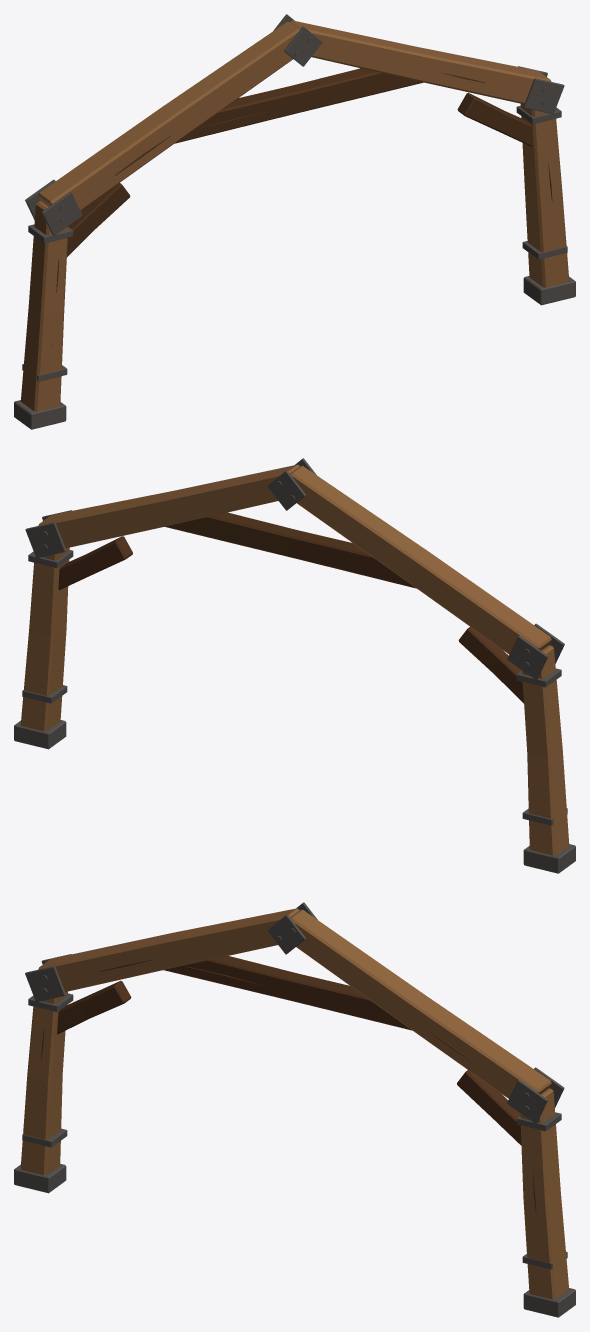
File: timber_support_arch.glb
The picture shows the model from 3 angles, top to bottom: view 1: azimuth 30°, elevation 25°; view 2: azimuth 150°, elevation 25°; view 3: azimuth 330°, elevation 25°; orthographic projection.
Visible parts, largest first — view 1: GEO_wood_primary, GEO_wood_dark, GEO_iron; view 2: GEO_wood_primary, GEO_wood_dark, GEO_iron; view 3: GEO_wood_primary, GEO_wood_dark, GEO_iron.
Part boxes in pixels (left/top/right/bottom): GEO_wood_primary: left=20, top=20, right=569, bottom=411; GEO_wood_dark: left=51, top=68, right=552, bottom=345; GEO_iron: left=14, top=14, right=575, bottom=429; GEO_wood_primary: left=20, top=464, right=569, bottom=855; GEO_wood_dark: left=58, top=512, right=523, bottom=703; GEO_iron: left=14, top=458, right=575, bottom=873; GEO_wood_primary: left=20, top=908, right=569, bottom=1299; GEO_wood_dark: left=35, top=956, right=536, bottom=1211; GEO_iron: left=14, top=902, right=575, bottom=1317.
Bounding box in the file's own units: 14.68 × 8.66 × 0.91.
